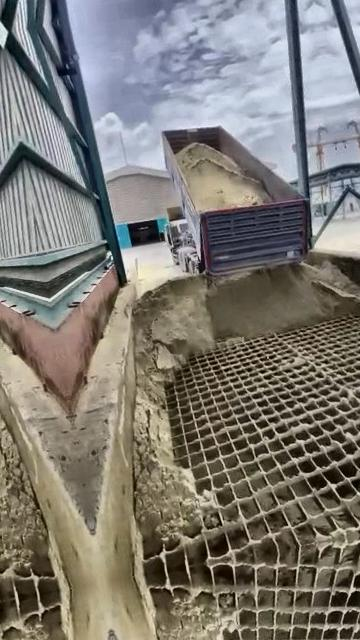sand: (134, 265, 360, 553), (176, 142, 271, 211), (306, 260, 360, 301)
